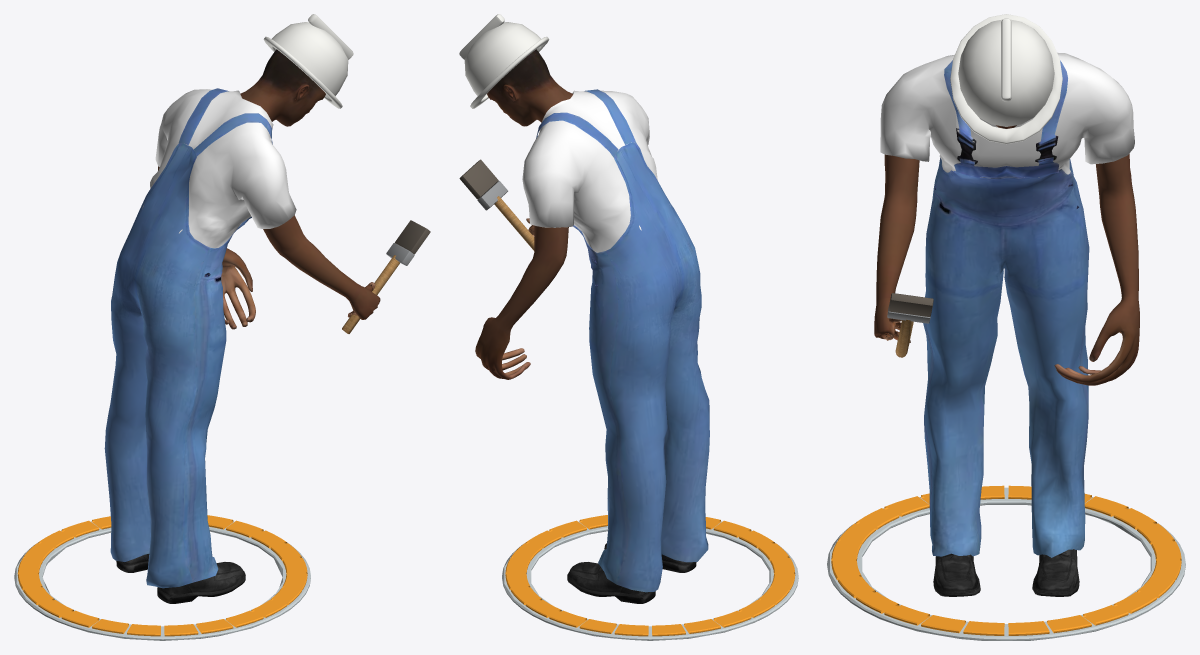
File: MDO-OBR-009_lod1.glb
3 renders of one model, left to right at view 1: azimuth 30°, elevation 25°; view 2: azimuth 150°, elevation 25°; view 3: azimuth 270°, elevation 25°, orthographic. The views are drawn at different scales.
Visible parts, largest first — view 1: MDO-OBR-009_pessoa_male_worksuit01, MDO-OBR-009_pessoa, MDO-OBR-009_anel_fundo, MDO-OBR-009_capacete, MDO-OBR-009_pessoa_shoes04, MDO-OBR-009_ferD_cerdas, MDO-OBR-009_capacete_aba, MDO-OBR-009_ferD_cabo; view 2: MDO-OBR-009_pessoa_male_worksuit01, MDO-OBR-009_pessoa, MDO-OBR-009_anel_fundo, MDO-OBR-009_capacete, MDO-OBR-009_pessoa_shoes04, MDO-OBR-009_ferD_cerdas, MDO-OBR-009_capacete_aba, MDO-OBR-009_ferD_cabo; view 3: MDO-OBR-009_pessoa_male_worksuit01, MDO-OBR-009_pessoa, MDO-OBR-009_capacete, MDO-OBR-009_anel_fundo, MDO-OBR-009_pessoa_shoes04, MDO-OBR-009_capacete_aba, MDO-OBR-009_capacete_friso, MDO-OBR-009_ferD_cerdas, MDO-OBR-009_anel_h03, MDO-OBR-009_anel_h08, MDO-OBR-009_anel_h04, MDO-OBR-009_anel_h07 (+10 smaller).
Boxes of the visible parts, bbox=[...] form: MDO-OBR-009_pessoa_male_worksuit01: bbox=[104, 88, 296, 588]; MDO-OBR-009_pessoa: bbox=[158, 49, 380, 329]; MDO-OBR-009_anel_fundo: bbox=[14, 521, 310, 640]; MDO-OBR-009_capacete: bbox=[271, 22, 348, 98]; MDO-OBR-009_pessoa_shoes04: bbox=[116, 554, 245, 603]; MDO-OBR-009_ferD_cerdas: bbox=[395, 220, 430, 254]; MDO-OBR-009_capacete_aba: bbox=[263, 36, 342, 108]; MDO-OBR-009_ferD_cabo: bbox=[342, 255, 399, 333]; MDO-OBR-009_pessoa_male_worksuit01: bbox=[522, 89, 709, 592]; MDO-OBR-009_pessoa: bbox=[475, 49, 573, 379]; MDO-OBR-009_anel_fundo: bbox=[502, 521, 798, 640]; MDO-OBR-009_capacete: bbox=[464, 22, 540, 98]; MDO-OBR-009_pessoa_shoes04: bbox=[567, 543, 696, 603]; MDO-OBR-009_ferD_cerdas: bbox=[459, 159, 498, 199]; MDO-OBR-009_capacete_aba: bbox=[470, 36, 549, 108]; MDO-OBR-009_ferD_cabo: bbox=[494, 196, 534, 250]; MDO-OBR-009_pessoa_male_worksuit01: bbox=[880, 52, 1134, 557]; MDO-OBR-009_pessoa: bbox=[874, 125, 1139, 385]; MDO-OBR-009_capacete: bbox=[958, 19, 1054, 126]; MDO-OBR-009_anel_fundo: bbox=[827, 487, 1185, 640]; MDO-OBR-009_pessoa_shoes04: bbox=[933, 549, 1079, 596]; MDO-OBR-009_capacete_aba: bbox=[950, 14, 1062, 144]; MDO-OBR-009_capacete_friso: bbox=[1001, 18, 1011, 101]; MDO-OBR-009_ferD_cerdas: bbox=[888, 293, 933, 316]; MDO-OBR-009_anel_h03: bbox=[1083, 605, 1128, 625]; MDO-OBR-009_anel_h08: bbox=[884, 605, 929, 625]; MDO-OBR-009_anel_h04: bbox=[1047, 615, 1091, 633]; MDO-OBR-009_anel_h07: bbox=[921, 615, 965, 633].
Size of the model in its own units: 1.14 by 1.65 by 0.84.
Materials: 11 (6 with a texture image).
